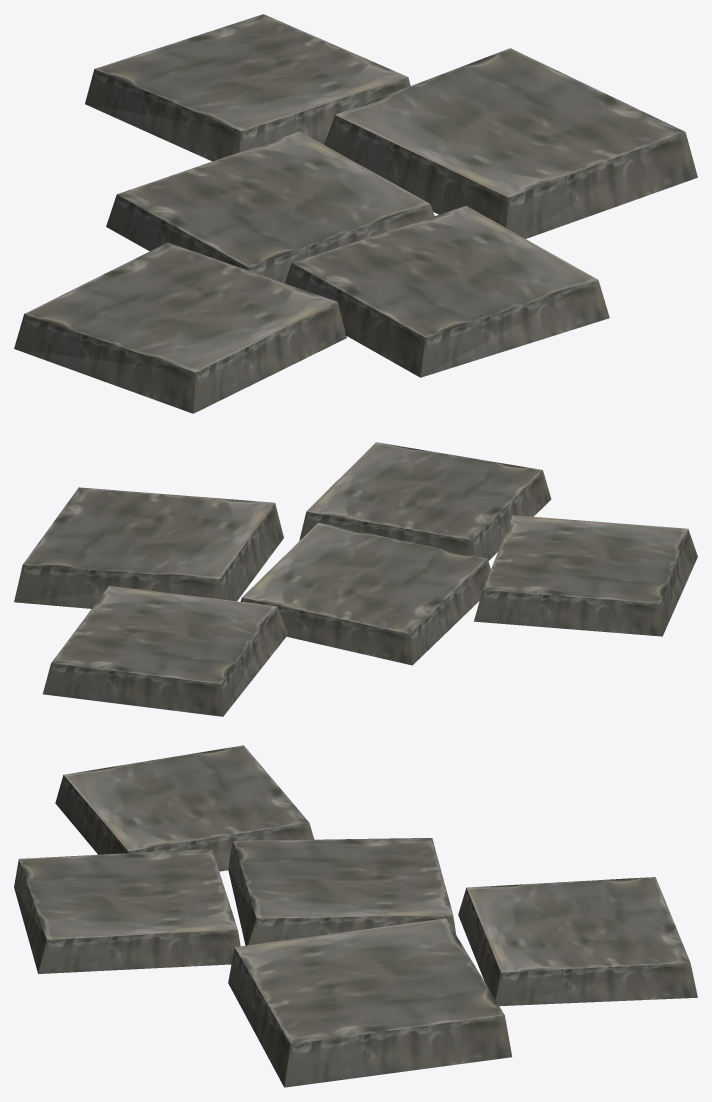
File: Floor_blocks_004.obj
The picture shows the model from 3 angles, top to bottom: view 1: azimuth 30°, elevation 25°; view 2: azimuth 150°, elevation 25°; view 3: azimuth 270°, elevation 25°; orthographic projection. The views are drawn at different scales.
Visible parts, largest first — view 1: Floor_blocks_004; view 2: Floor_blocks_004; view 3: Floor_blocks_004.
Boxes of the visible parts, x1=… form: Floor_blocks_004: x1=14, y1=14, x2=697, y2=413; Floor_blocks_004: x1=14, y1=442, x2=697, y2=716; Floor_blocks_004: x1=14, y1=745, x2=697, y2=1087.
Size of the model in its own units: 22.73 by 1.89 by 21.85.
